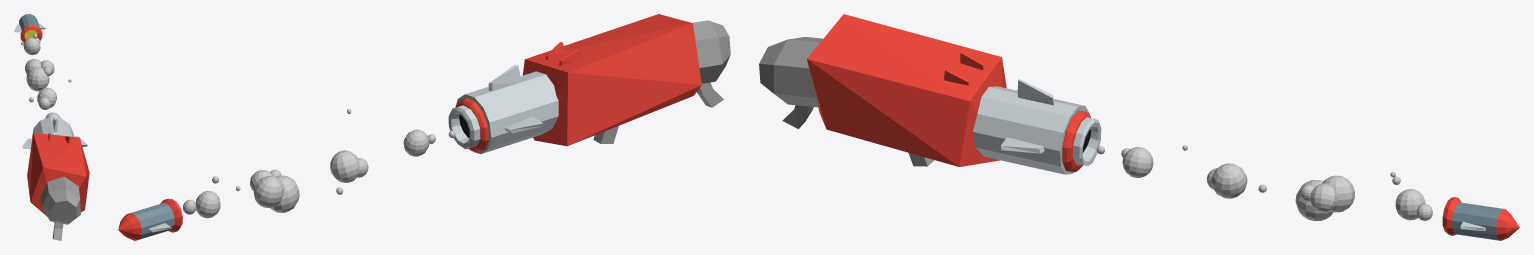
The picture shows the model from 3 angles, left to right: view 1: azimuth 30°, elevation 25°; view 2: azimuth 150°, elevation 25°; view 3: azimuth 270°, elevation 25°; orthographic projection. The views are drawn at different scales.
Parts seen in each view (by area): view 1: mesh_1436068186, group_1291512444, mesh_1226584317, mesh_764920045, mesh_7316780, mesh_1901764952, mesh_1407284962, mesh_290604735, mesh_1660777913, mesh_120810027, mesh_1136621439, mesh_1550021642 (+3 smaller); view 2: mesh_1436068186, mesh_1226584317, group_1291512444, mesh_764920045, mesh_1677001952, mesh_1660777913, mesh_1407284962, mesh_7316780, mesh_1377570156, mesh_2101099936, mesh_1901764952, mesh_798424740 (+2 smaller); view 3: mesh_1436068186, mesh_1226584317, group_1291512444, mesh_764920045, mesh_1677001952, mesh_1407284962, mesh_1377570156, mesh_2101099936, mesh_1660777913, mesh_1901764952, mesh_1136621439, mesh_7316780 (+3 smaller).
Boxes of the visible parts, x1,y1,x2,y2 form: mesh_1436068186: (27, 132, 89, 222); group_1291512444: (40, 176, 80, 224); mesh_1226584317: (32, 117, 73, 137); mesh_764920045: (19, 14, 42, 42); mesh_7316780: (26, 67, 49, 91); mesh_1901764952: (23, 37, 40, 55); mesh_1407284962: (37, 87, 56, 108); mesh_290604735: (52, 222, 63, 240); mesh_1660777913: (25, 59, 40, 74); mesh_120810027: (38, 97, 50, 109); mesh_1136621439: (40, 60, 54, 75); mesh_1550021642: (22, 138, 32, 149); mesh_1436068186: (522, 14, 701, 146); mesh_1226584317: (455, 71, 558, 154); group_1291512444: (692, 20, 730, 83); mesh_764920045: (118, 198, 182, 240); mesh_1677001952: (448, 105, 480, 149); mesh_1660777913: (253, 176, 284, 207); mesh_1407284962: (330, 150, 359, 182); mesh_7316780: (270, 175, 299, 212); mesh_1377570156: (455, 98, 488, 152); mesh_2101099936: (403, 129, 429, 156); mesh_1901764952: (195, 191, 220, 218); mesh_798424740: (488, 64, 521, 90); mesh_1436068186: (807, 14, 1006, 166); mesh_1226584317: (973, 86, 1089, 174); group_1291512444: (759, 37, 822, 107); mesh_764920045: (1442, 197, 1519, 240); mesh_1677001952: (1072, 117, 1101, 165); mesh_1407284962: (1211, 163, 1247, 198); mesh_1377570156: (1062, 110, 1090, 172); mesh_2101099936: (1122, 147, 1153, 177); mesh_1660777913: (1322, 175, 1354, 212); mesh_1901764952: (1395, 189, 1425, 220); mesh_1136621439: (1310, 183, 1337, 212); mesh_7316780: (1295, 180, 1333, 221).
Size of the model in its own units: 136 by 47.25 by 269.
